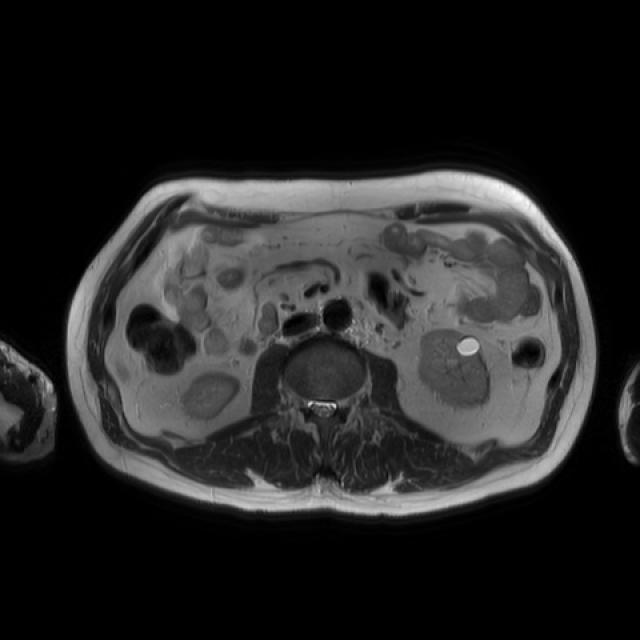sag: (186, 373, 240, 418)
sol: (418, 330, 491, 406)
